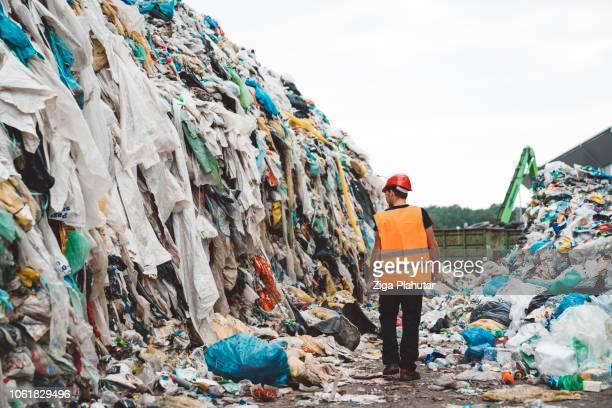garbage: (0, 16, 328, 392), (497, 138, 612, 394)
